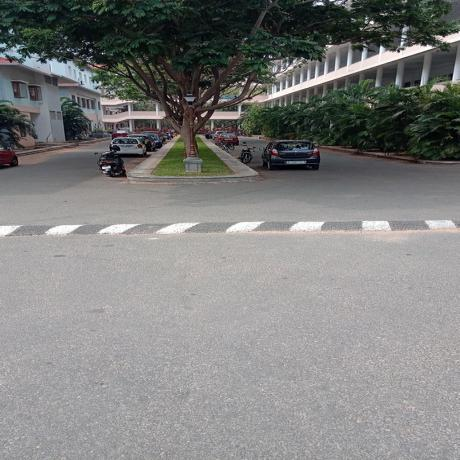Speed Bump: (0, 220, 459, 237)
